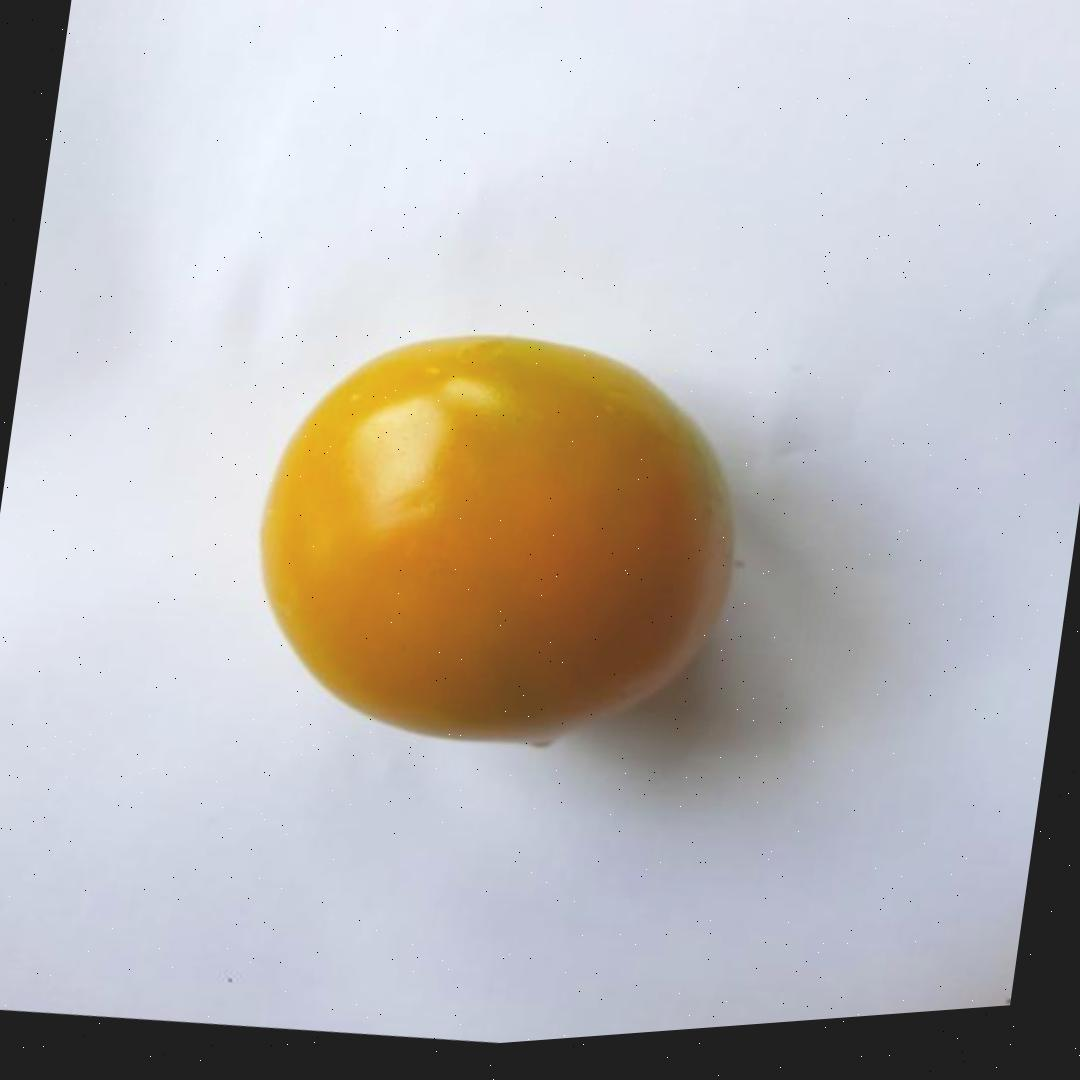setengah_matang: (224, 280, 766, 794)
